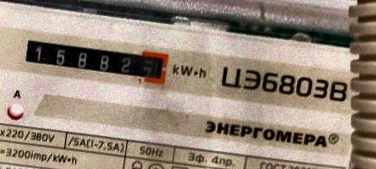1: (31, 43, 44, 62)
2: (118, 54, 132, 74)
5: (53, 47, 66, 66)
7: (140, 65, 153, 77)
8: (74, 49, 88, 68), (96, 52, 110, 71)
screen: (15, 27, 174, 92)
